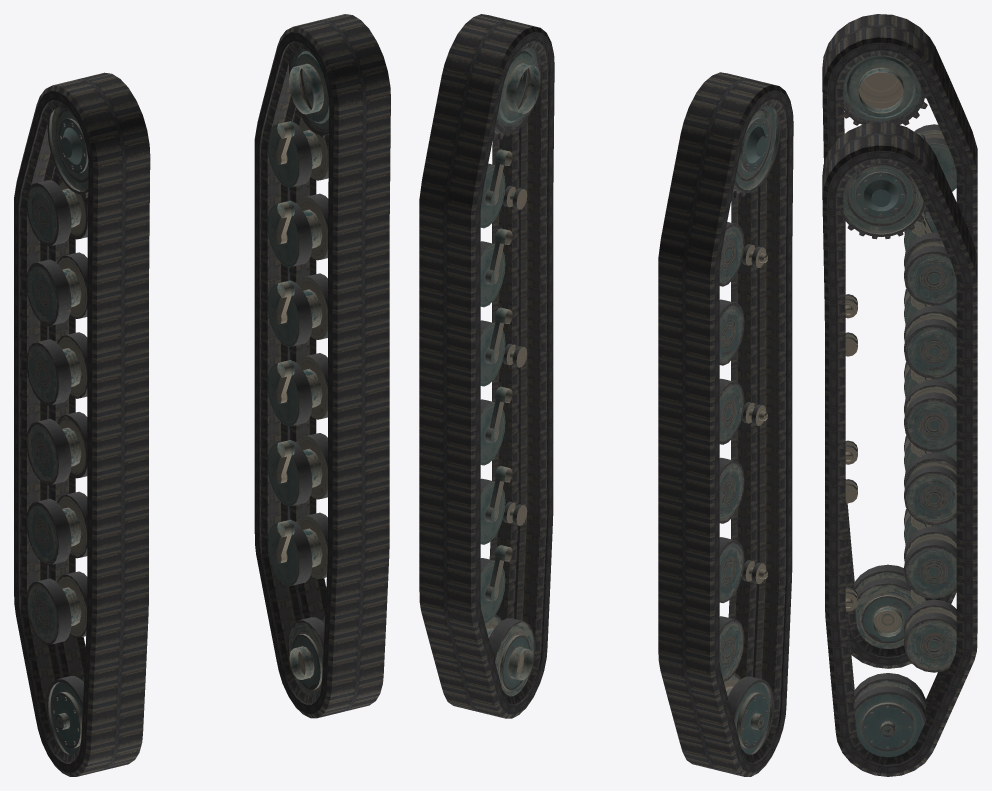
File: Chassis.glb
3 renders of one model, left to right at view 1: azimuth 30°, elevation 25°; view 2: azimuth 150°, elevation 25°; view 3: azimuth 270°, elevation 25°, orthographic. The views are drawn at different scales.
Parts seen in each view (by area): view 1: set_5_group_0, set_4_group_0, set_3_group_0, set_1_group_0; view 2: set_4_group_0, set_5_group_0, set_1_group_0, set_3_group_0; view 3: set_5_group_0, set_1_group_0, set_4_group_0, set_3_group_0.
Boxes of the visible parts, bbox=[...] form: set_5_group_0: bbox=[254, 14, 390, 718]; set_4_group_0: bbox=[14, 72, 150, 776]; set_3_group_0: bbox=[27, 107, 88, 754]; set_1_group_0: bbox=[267, 48, 329, 695]; set_4_group_0: bbox=[658, 72, 793, 776]; set_5_group_0: bbox=[419, 14, 554, 718]; set_1_group_0: bbox=[480, 48, 540, 696]; set_3_group_0: bbox=[719, 106, 780, 754]; set_5_group_0: bbox=[822, 122, 977, 776]; set_1_group_0: bbox=[843, 163, 956, 757]; set_4_group_0: bbox=[822, 14, 977, 668]; set_3_group_0: bbox=[843, 55, 956, 648].
Bounding box in the file's own units: 2.51 × 5.52 × 1.23.
6 materials, 6 textured.
